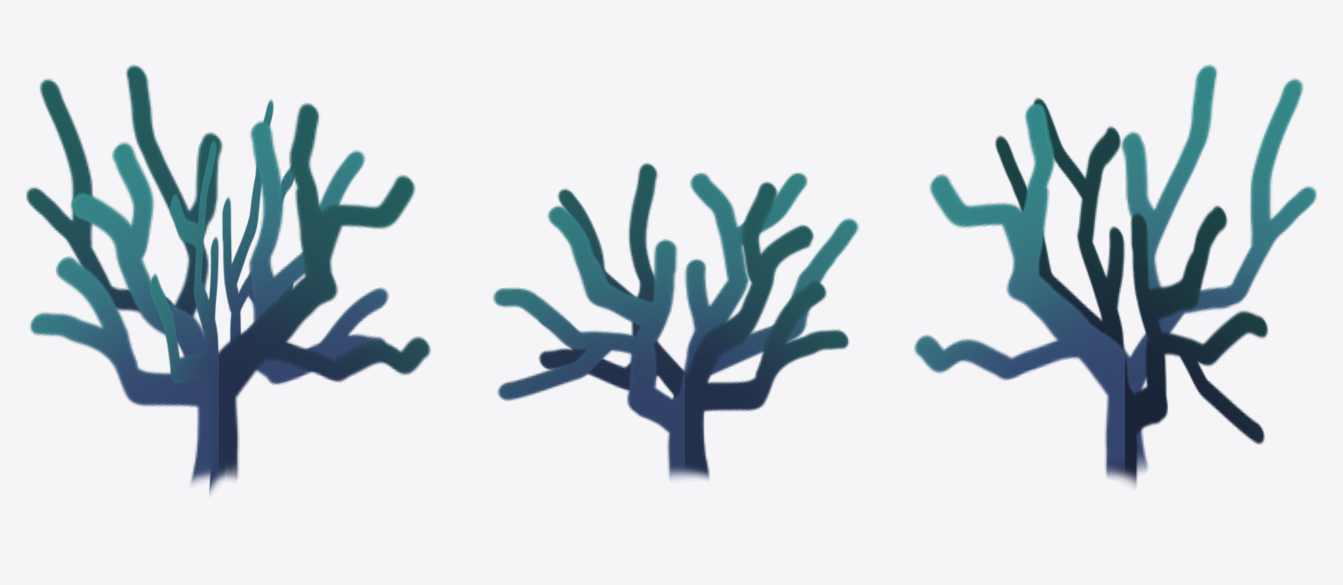
Rendered from P_Coral.glb.
3 renders of one model, left to right at view 1: azimuth 30°, elevation 25°; view 2: azimuth 150°, elevation 25°; view 3: azimuth 270°, elevation 25°, orthographic. The views are drawn at different scales.
Parts seen in each view (by area): view 1: P_Coral; view 2: P_Coral; view 3: P_Coral.
Boxes of the visible parts, x1=… form: P_Coral: x1=26, y1=65, x2=430, y2=493; P_Coral: x1=493, y1=163, x2=858, y2=479; P_Coral: x1=914, y1=64, x2=1316, y2=485.
Size of the model in its own units: 0.7542 by 0.824 by 0.7693.
Materials: 1 (1 with a texture image).
